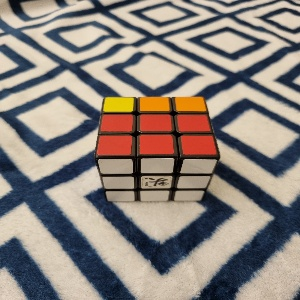cube: (93, 96, 222, 203)
